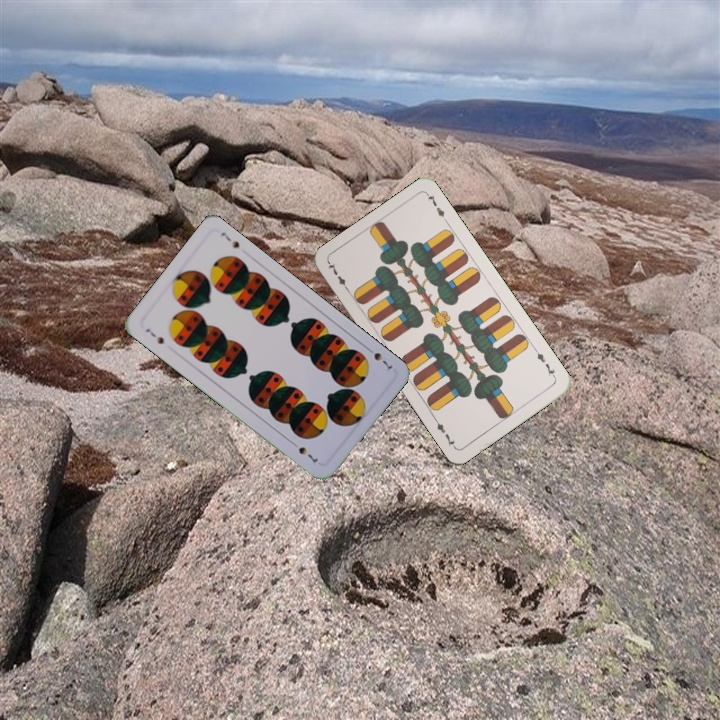E7: (531, 345, 559, 381), (324, 258, 352, 294)
S7: (362, 343, 397, 374), (141, 324, 166, 347)
